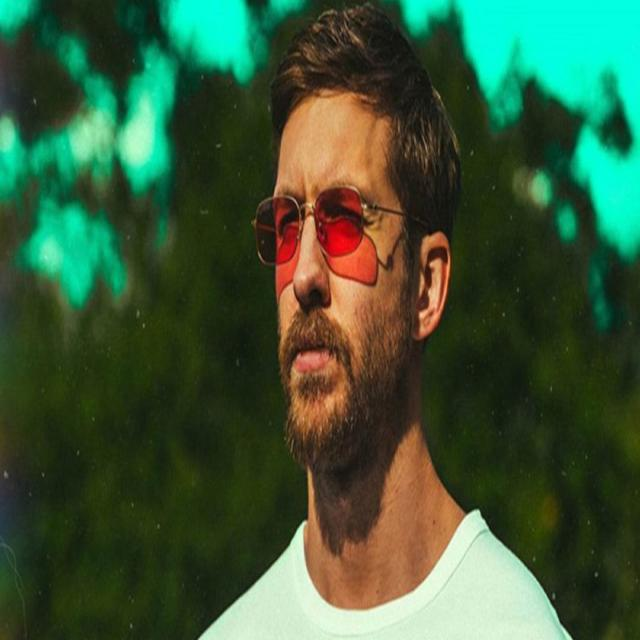mobile_phonerotation: (194, 3, 574, 637)
